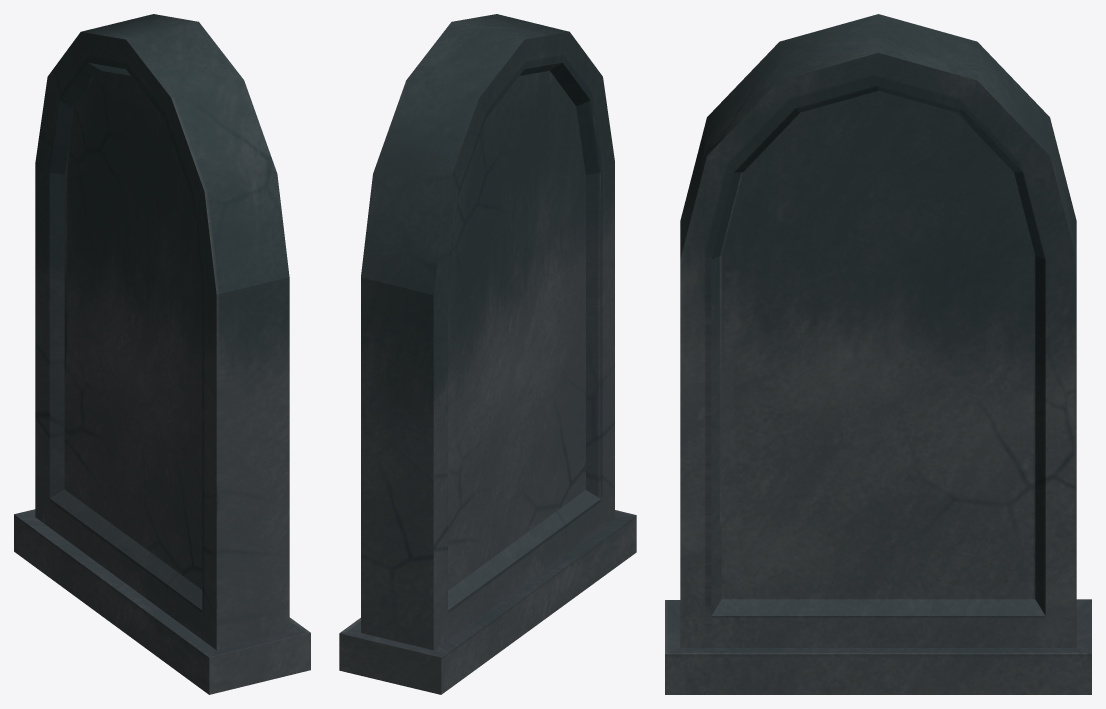
The model's file is Gravestone1_Model.fbx.
3 renders of one model, left to right at view 1: azimuth 30°, elevation 25°; view 2: azimuth 150°, elevation 25°; view 3: azimuth 270°, elevation 25°, orthographic. The views are drawn at different scales.
Visible parts, largest first — view 1: Gravestone1; view 2: Gravestone1; view 3: Gravestone1.
Boxes of the visible parts, x1,y1,x2,y2 form: Gravestone1: [14, 14, 310, 694]; Gravestone1: [339, 14, 636, 694]; Gravestone1: [665, 14, 1091, 694].
Size of the model in its own units: 10.71 by 58.4 by 35.61.
